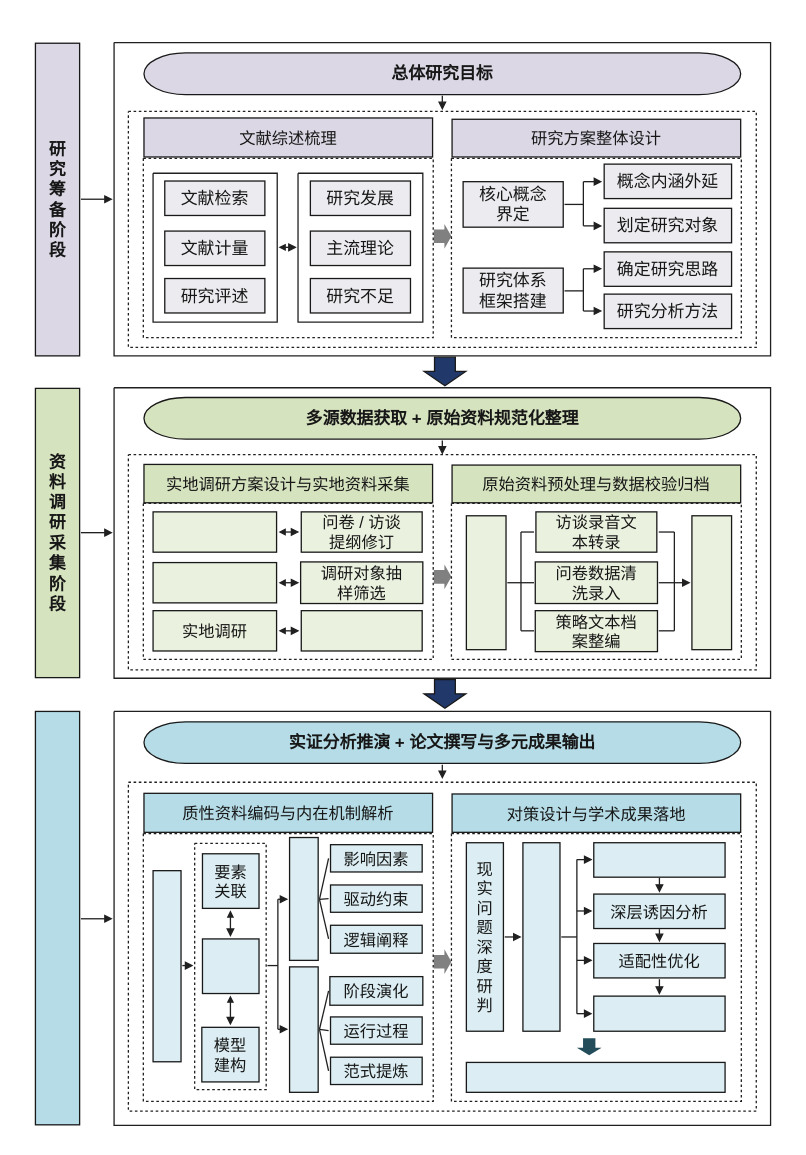
Image size: 806x1155. Some labels were removed from this diagram. Each missing label, with the box of its shape:
一手资料现 场采集: (300, 610, 422, 651)
作 用 过 程 推 演: (152, 870, 181, 1062)
保障举措提出: (593, 995, 725, 1032)
内 在 机 理 解 构: (289, 837, 318, 961)
原 始 资 料 归 集: (465, 515, 506, 650)
学位论文定稿撰写: (465, 1061, 725, 1093)
成 因 根 源 分 层 剖 析: (522, 842, 560, 1032)
数 据 分 析 与 成 果 产 出 阶 段: (34, 710, 80, 1125)
现存困境归纳: (593, 842, 725, 878)
系 统 运 行 剖 析: (289, 966, 318, 1093)
调研工具: (152, 511, 277, 552)
调研样本: (152, 562, 277, 603)
路径 拆解: (202, 938, 259, 994)
采 集 资 料 核 验: (691, 515, 732, 650)
